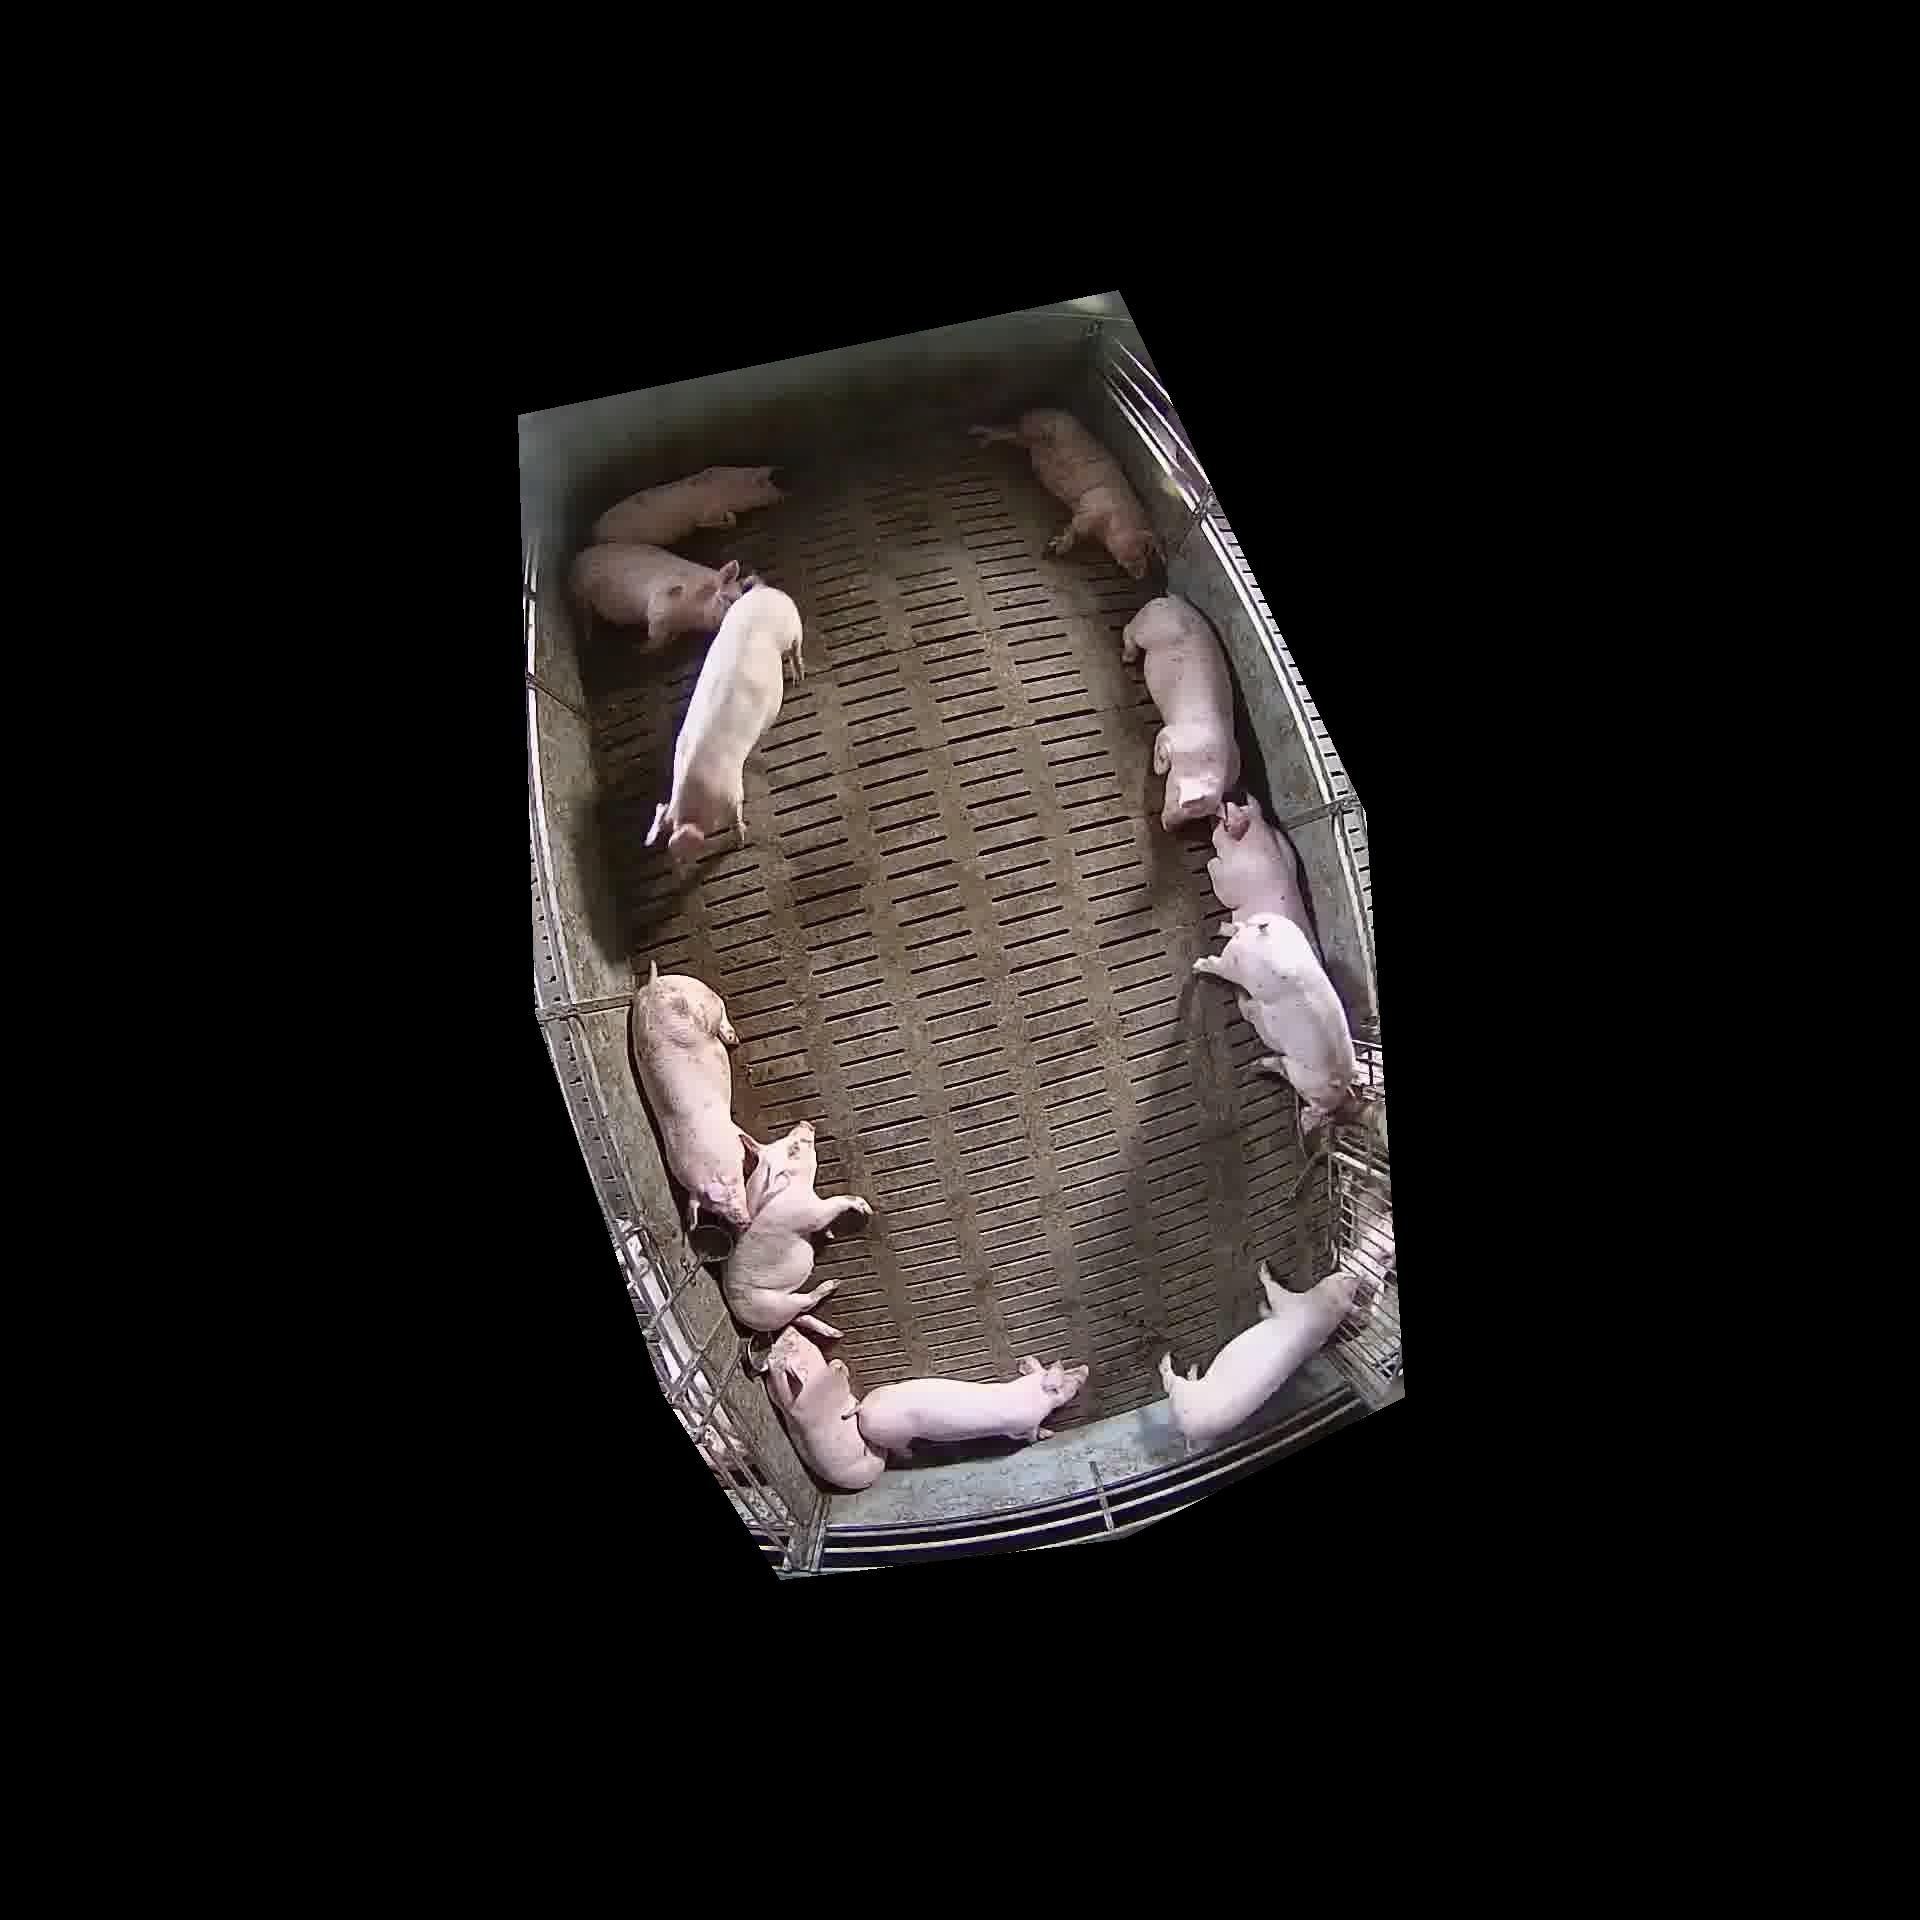pig: (645, 580, 802, 863), (1159, 1271, 1363, 1447), (1196, 913, 1356, 1132), (721, 1120, 870, 1335), (631, 964, 749, 1227), (971, 410, 1153, 577), (1124, 594, 1240, 828), (858, 1356, 1088, 1456), (765, 1326, 884, 1489), (570, 543, 742, 652), (593, 466, 781, 545), (1208, 796, 1312, 937)
